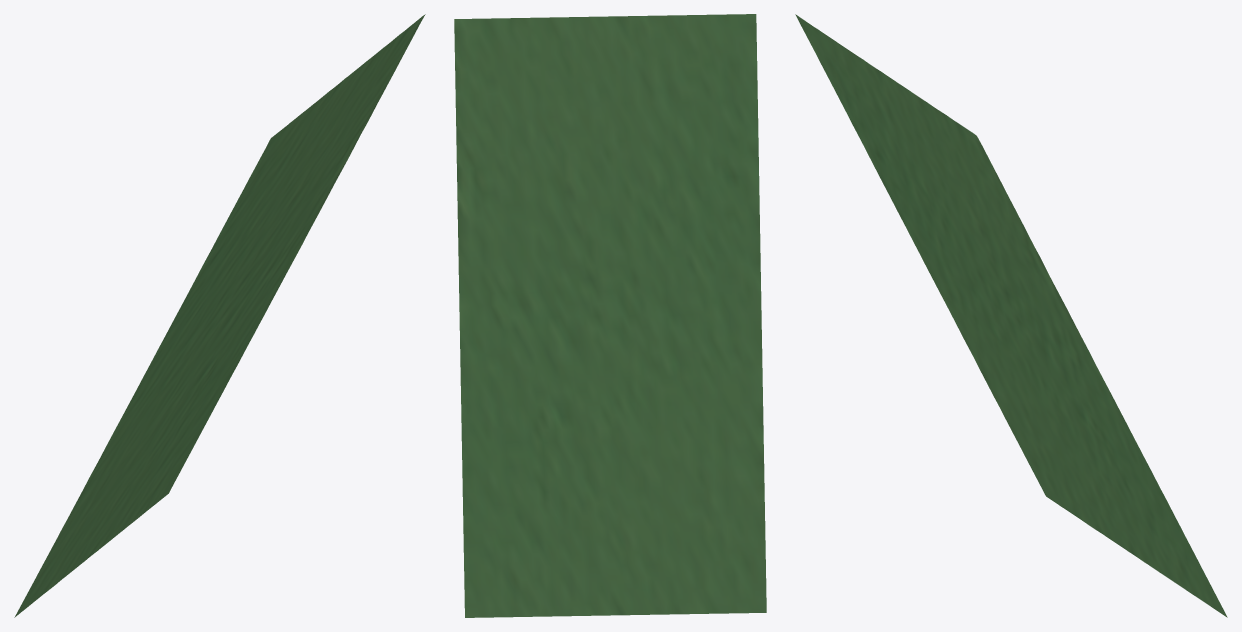
3 renders of one model, left to right at view 1: azimuth 30°, elevation 25°; view 2: azimuth 150°, elevation 25°; view 3: azimuth 270°, elevation 25°, orthographic. The views are drawn at different scales.
Bounding box in the file's own units: 9851 × 13378 × 9547.
